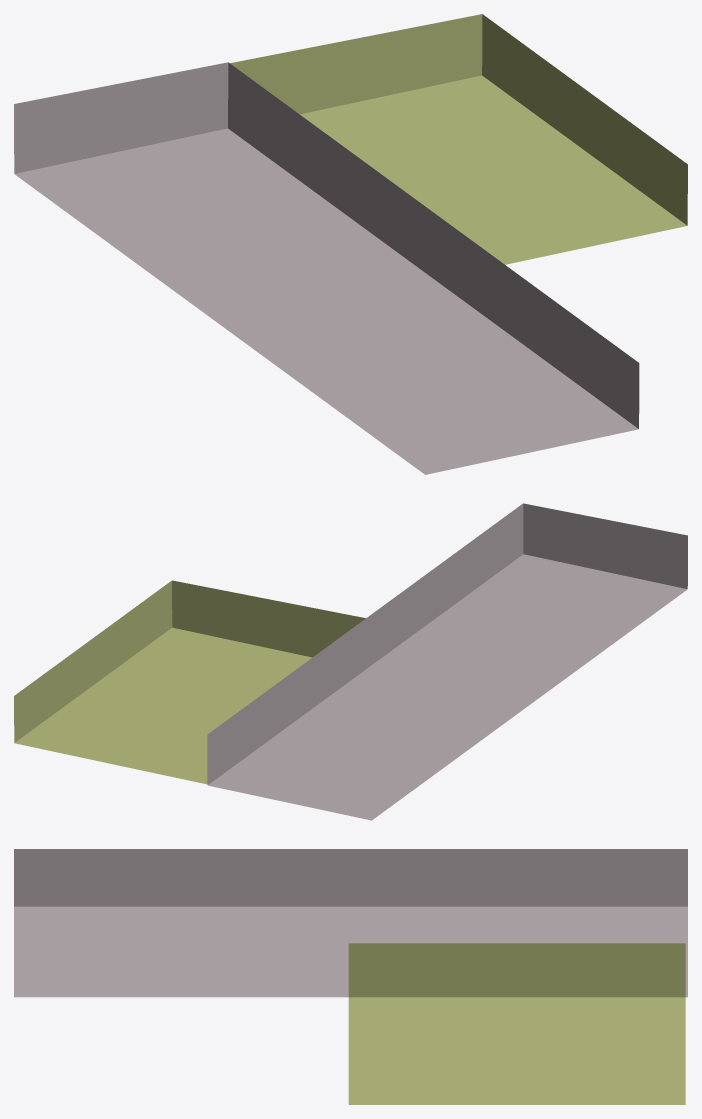
3 renders of one model, top to bottom at view 1: azimuth 30°, elevation 25°; view 2: azimuth 150°, elevation 25°; view 3: azimuth 270°, elevation 25°, orthographic. The views are drawn at different scales.
Visible parts, largest first — view 1: 0_2_1_3_0_0_2_3_0_1_1; view 2: 0_2_1_3_0_0_2_3_0_1_1; view 3: 0_2_1_3_0_0_2_3_0_1_1.
Part boxes in pixels (bbox=[...]): 0_2_1_3_0_0_2_3_0_1_1: bbox=[14, 14, 687, 474]; 0_2_1_3_0_0_2_3_0_1_1: bbox=[14, 503, 687, 820]; 0_2_1_3_0_0_2_3_0_1_1: bbox=[14, 849, 687, 1104].
Size of the model in its own units: 7.87 by 1.36 by 12.
